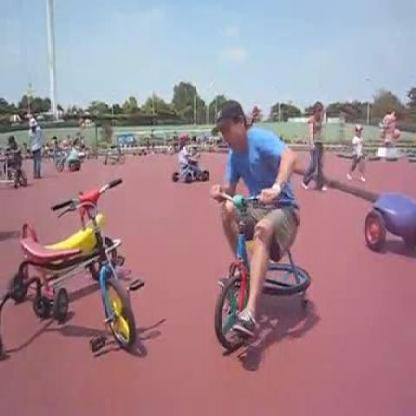other: (14, 186, 154, 349)
